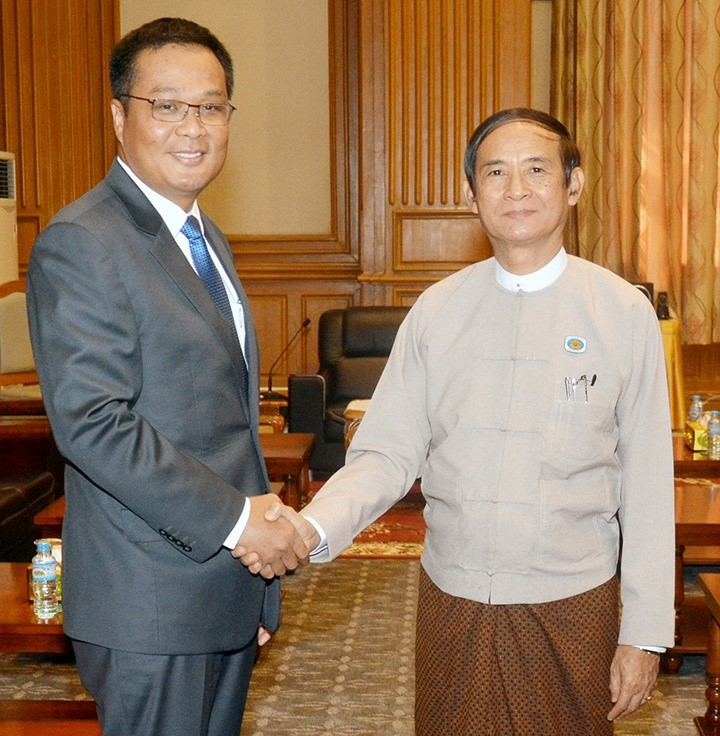face_no_mask: (111, 22, 239, 205), (466, 108, 585, 239)
